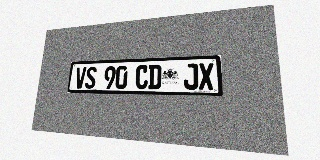0: (115, 66, 128, 89)
9: (103, 66, 116, 89)
C: (135, 65, 148, 89)
D: (148, 64, 162, 89)
J: (184, 63, 198, 90)
S: (85, 67, 97, 89)
V: (74, 67, 86, 89)
X: (198, 63, 214, 90)
